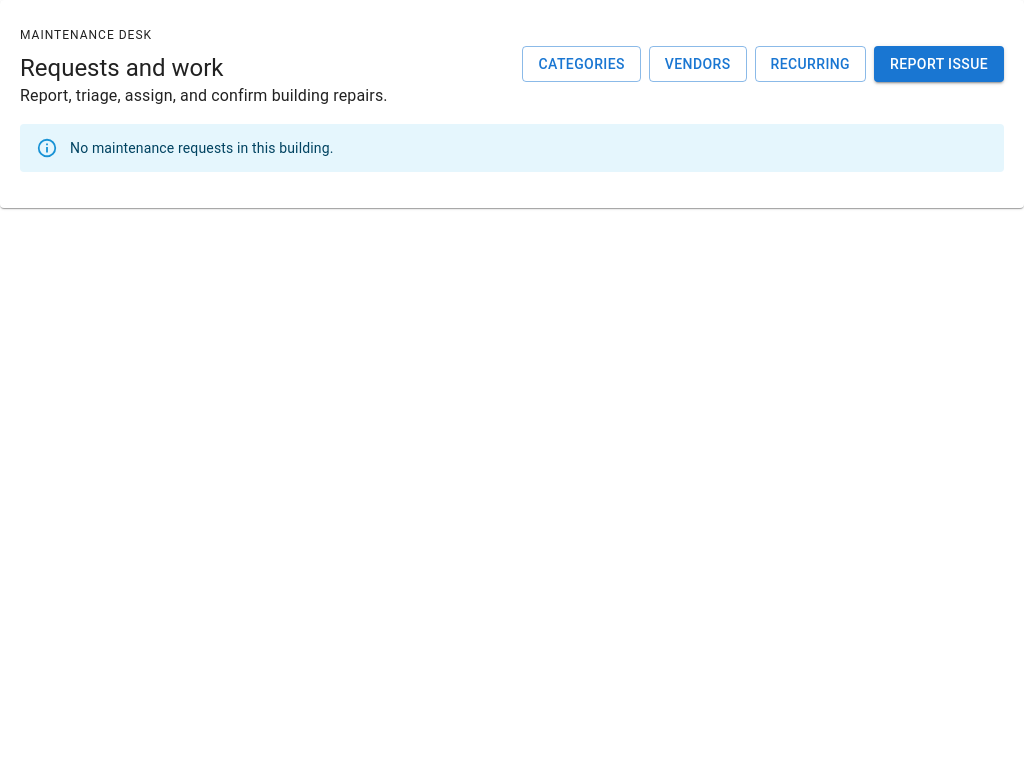
Test: rejects a resolution target shorter than the response target
The width and height of the screenshot is (1024, 768).
Click the button "Categories". click: click(582, 64)
box: [522,46,641,82]
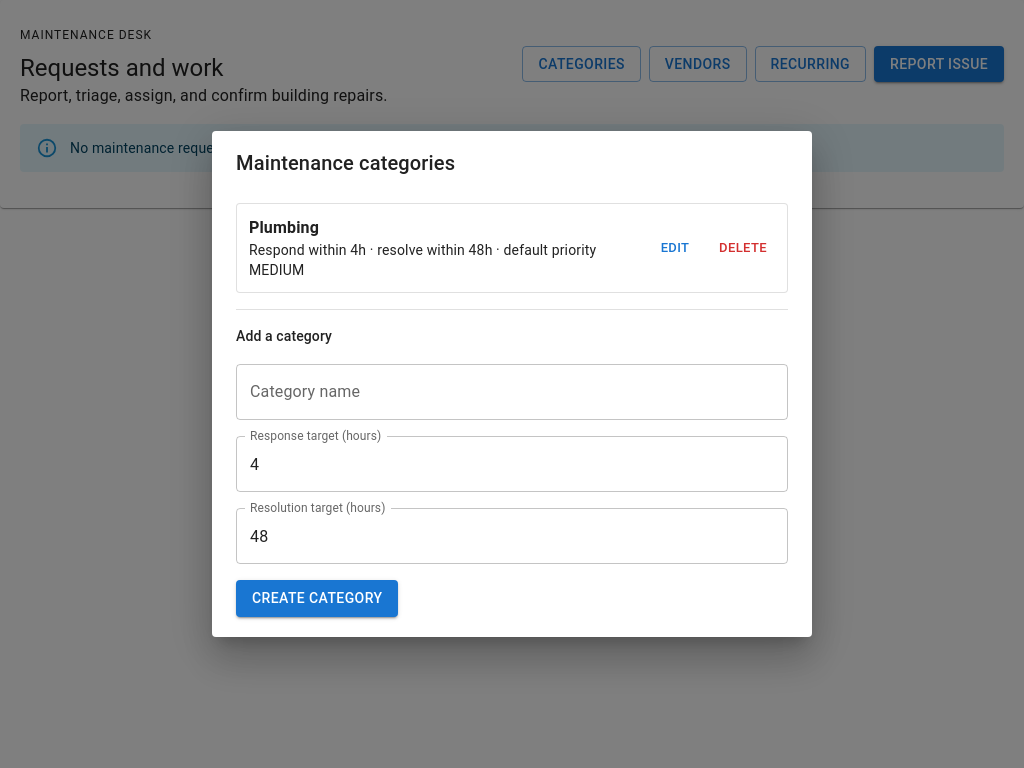
Type "HVAC" into the field labelled "Category name". click: (512, 392)
box: [236,364,788,420]
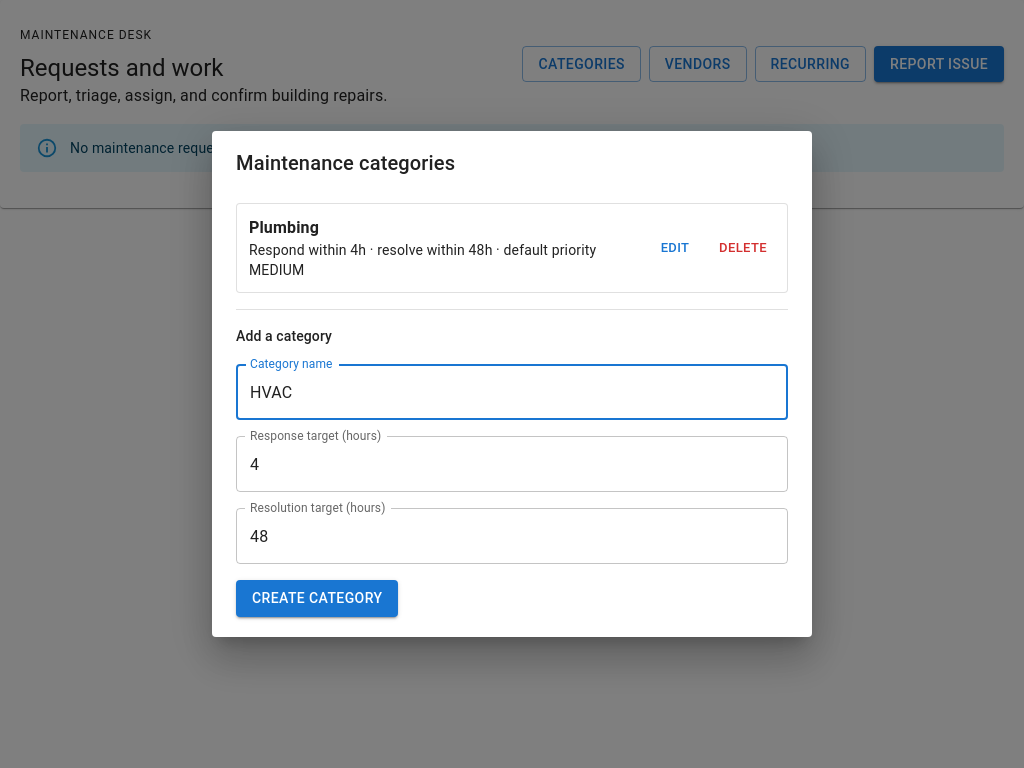
Replace the text in the number field labelled "Resolution target (hours)" with "2". click: (512, 536)
box: [236,508,788,564]
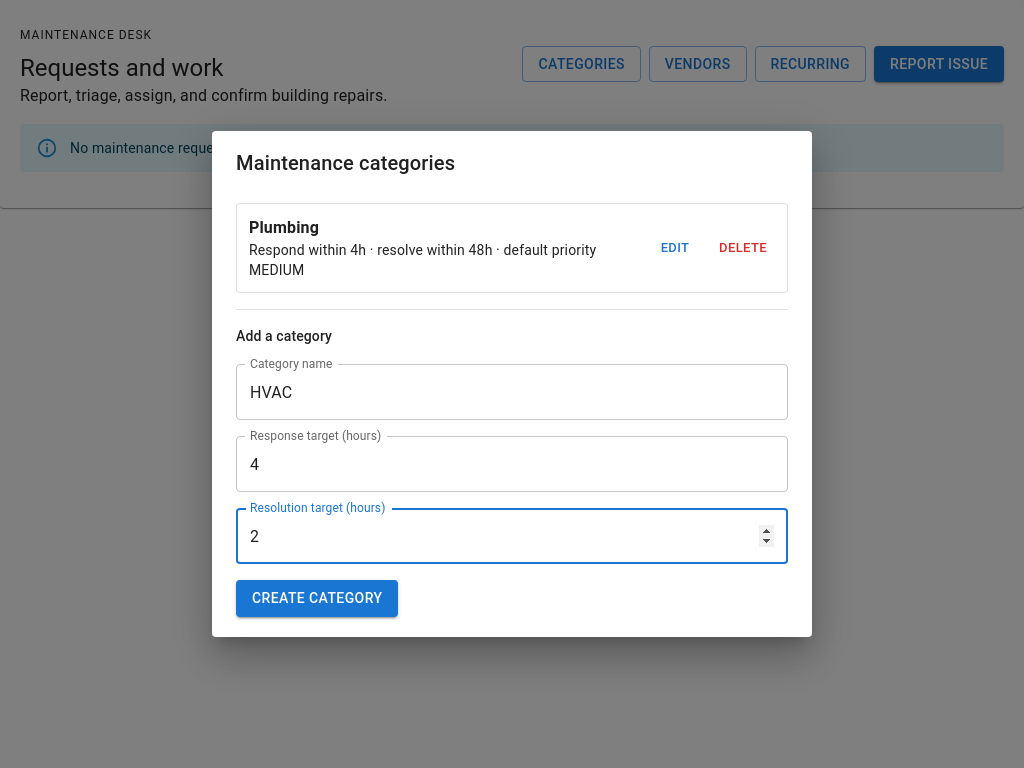
Click the button "Create category". click: click(317, 599)
box: [236,580,398,617]
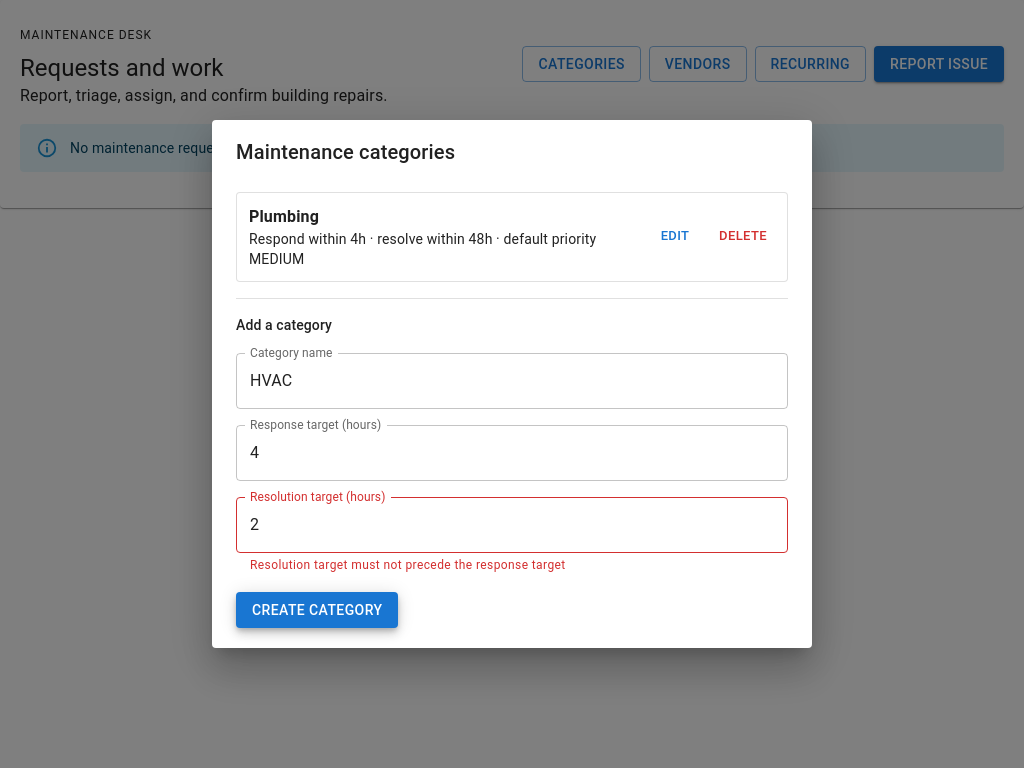
expect the text "Resolution target must not precede the response target" is shown: met, box [250,558,566,572]
